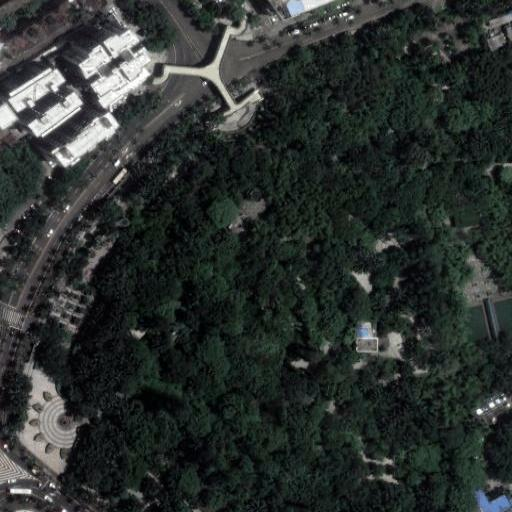building: (91, 49, 160, 108), (54, 112, 122, 169), (3, 4, 73, 59), (75, 25, 138, 78), (6, 66, 67, 116), (29, 91, 83, 138), (484, 294, 512, 349), (269, 0, 335, 22), (343, 259, 380, 298), (478, 386, 512, 423), (469, 493, 512, 512), (487, 33, 510, 50), (488, 12, 512, 27), (355, 337, 378, 352), (474, 487, 488, 508), (355, 322, 372, 337), (505, 24, 512, 41)
